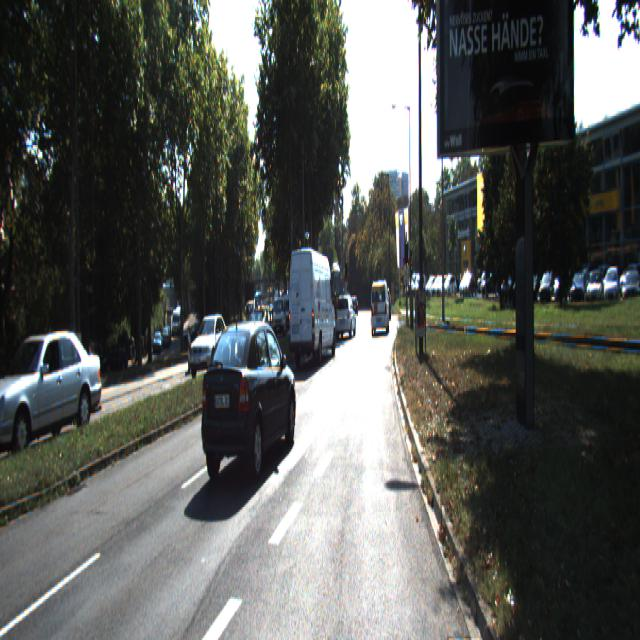Car: (199, 312, 298, 488), (0, 327, 105, 463), (287, 243, 336, 370), (189, 312, 230, 381), (307, 269, 342, 323), (371, 282, 389, 336), (247, 309, 269, 353), (336, 294, 356, 340)
